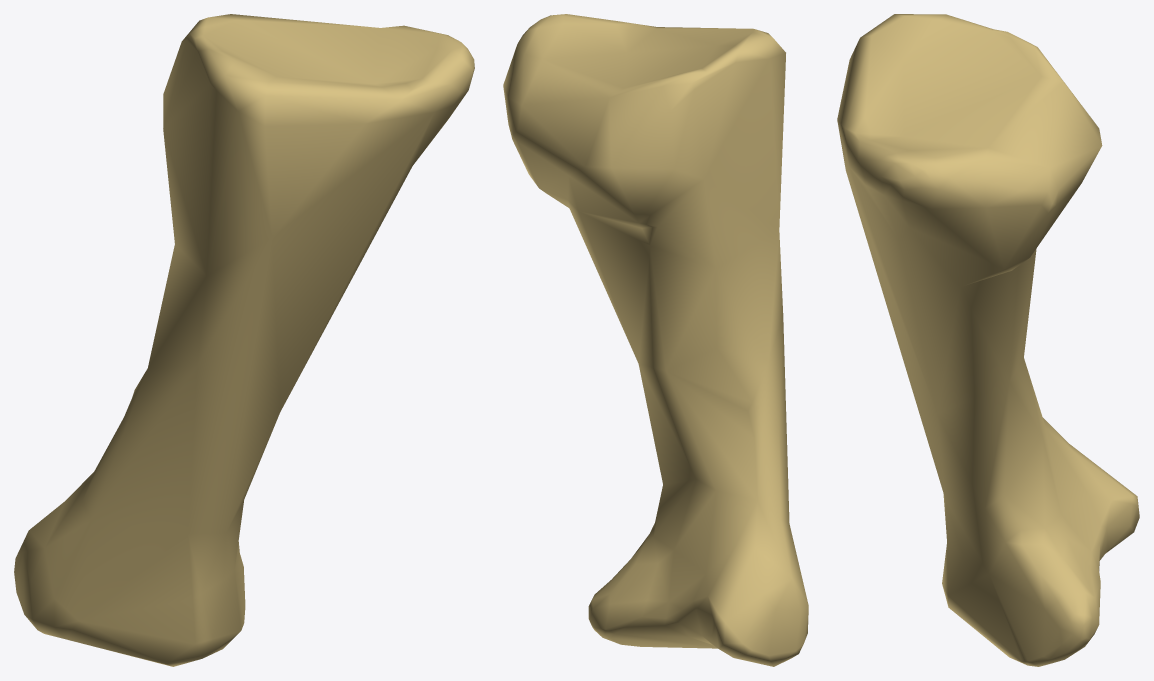
The picture shows the model from 3 angles, left to right: view 1: azimuth 30°, elevation 25°; view 2: azimuth 150°, elevation 25°; view 3: azimuth 270°, elevation 25°; orthographic projection. The views are drawn at different scales.
Visible parts, largest first — view 1: 右侧第二趾近节趾骨; view 2: 右侧第二趾近节趾骨; view 3: 右侧第二趾近节趾骨.
Part boxes in pixels (x1,y1,x2,y2): 右侧第二趾近节趾骨: (14,14,474,666); 右侧第二趾近节趾骨: (503,14,808,666); 右侧第二趾近节趾骨: (837,14,1139,666).
Size of the model in its own units: 0.0263 by 0.0433 by 0.0191.
